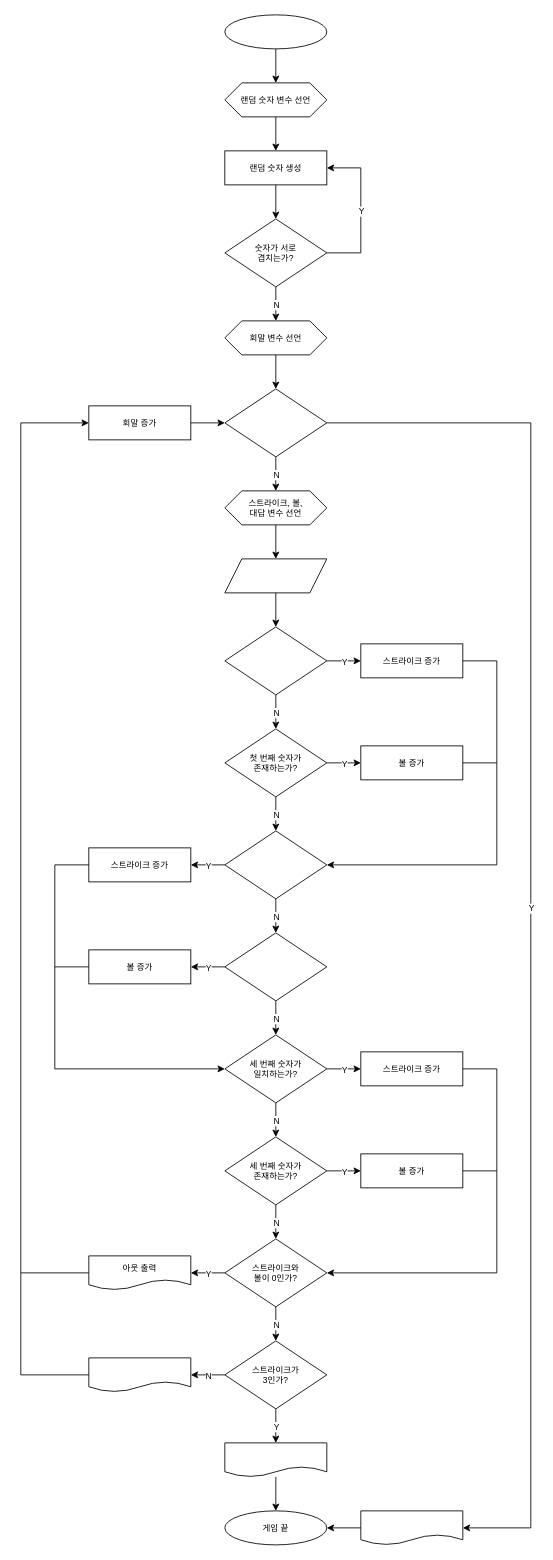
The diagram is 553 pixels wide and 1560 high, and some of its shapes have lost their labels. The centre of each missing label's shape, as x and y in pixels:
11회말을 초과했는가?: point 275,422
게임 승리 출력: point 275,1459
게임 시작: point 275,31
게임 패배 출력: point 411,1527
대답 입력: point 275,575
두 번째 숫자가 일치하는가?: point 275,864
두 번째 숫자가 존재하는가?: point 275,966
스크라이크, 볼 출력: point 139,1374
첫 번째 숫자가 일치하는가?: point 275,660
